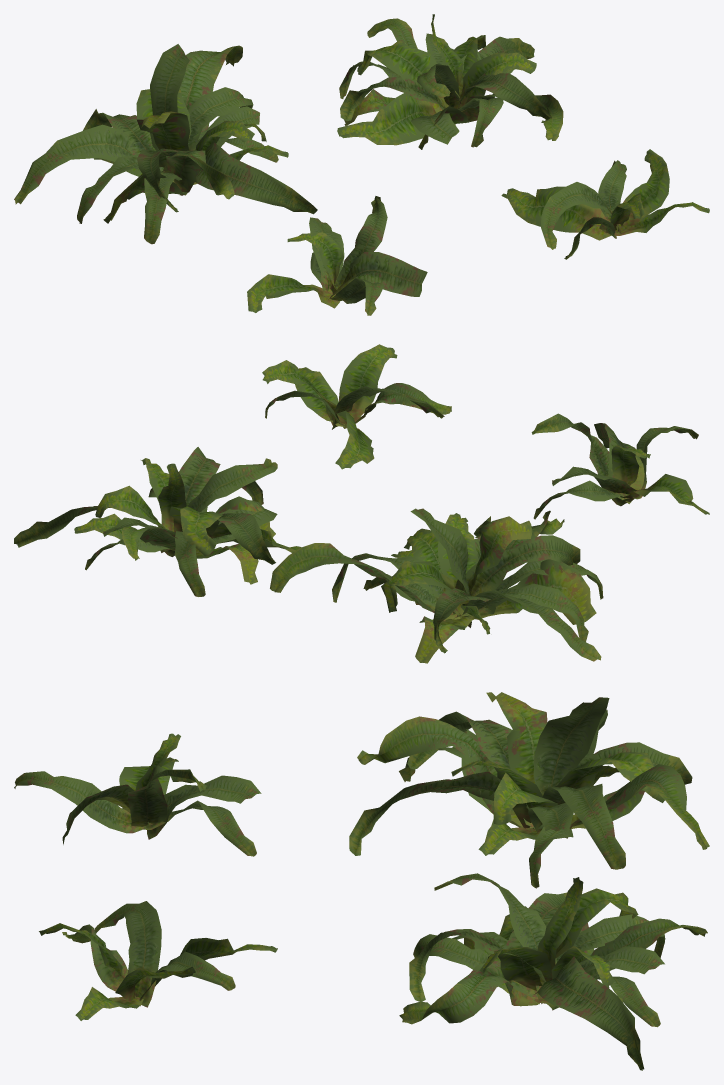
The model's file is shrub.glb.
3 renders of one model, top to bottom at view 1: azimuth 30°, elevation 25°; view 2: azimuth 150°, elevation 25°; view 3: azimuth 270°, elevation 25°, orthographic. The views are drawn at different scales.
Parts seen in each view (by area): view 1: fern_02_b, fern_02_c, fern_02_d, fern_02_a; view 2: fern_02_b, fern_02_c, fern_02_d, fern_02_a; view 3: fern_02_b, fern_02_c, fern_02_a, fern_02_d.
Part boxes in pixels (x1=…): fern_02_b: x1=14, y1=44, x2=317, y2=244; fern_02_c: x1=337, y1=14, x2=563, y2=149; fern_02_d: x1=501, y1=149, x2=709, y2=259; fern_02_a: x1=247, y1=196, x2=427, y2=315; fern_02_b: x1=270, y1=508, x2=603, y2=663; fern_02_c: x1=14, y1=447, x2=301, y2=596; fern_02_d: x1=262, y1=344, x2=451, y2=469; fern_02_a: x1=531, y1=413, x2=709, y2=519; fern_02_b: x1=349, y1=692, x2=709, y2=888; fern_02_c: x1=399, y1=873, x2=707, y2=1070; fern_02_a: x1=14, y1=733, x2=261, y2=856; fern_02_d: x1=39, y1=901, x2=277, y2=1020.
Bounding box in the file's own units: 1.97 × 0.4277 × 1.72.
Materials: 1 (1 with a texture image).
